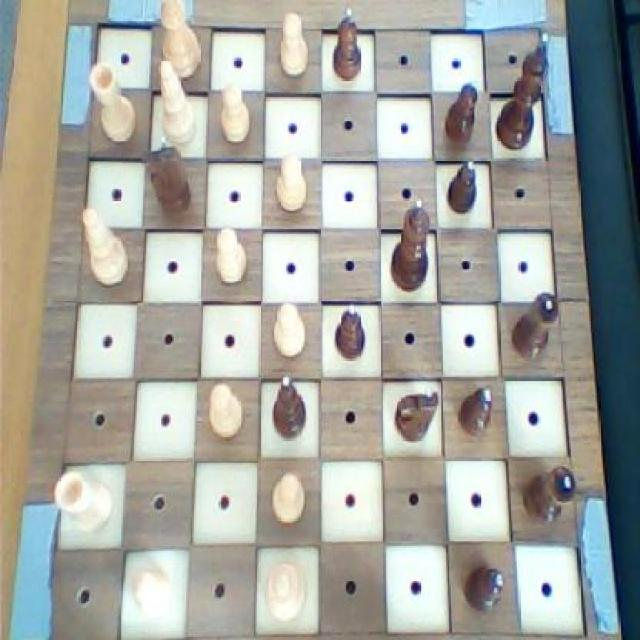bishop: (270, 371, 308, 442)
black-bishop: (494, 26, 550, 152)
black-king: (144, 143, 196, 219), (392, 384, 445, 452)
black-knight: (329, 6, 364, 86), (462, 560, 508, 616), (443, 77, 478, 148), (331, 302, 368, 364), (455, 385, 494, 443), (443, 157, 478, 217)
black-pawn: (389, 194, 434, 292)
black-queen: (520, 458, 579, 528), (508, 288, 560, 360)
black-rook: (79, 205, 133, 292), (154, 58, 201, 152)
white-bishop: (156, 0, 204, 83)
white-knight: (271, 6, 310, 79), (272, 148, 310, 215), (216, 78, 252, 146), (206, 378, 244, 442), (131, 565, 175, 619), (211, 226, 249, 287), (270, 298, 308, 359), (269, 469, 308, 528)
white-pawn: (262, 559, 310, 623)
white-queen: (86, 57, 140, 148), (51, 469, 116, 538)
